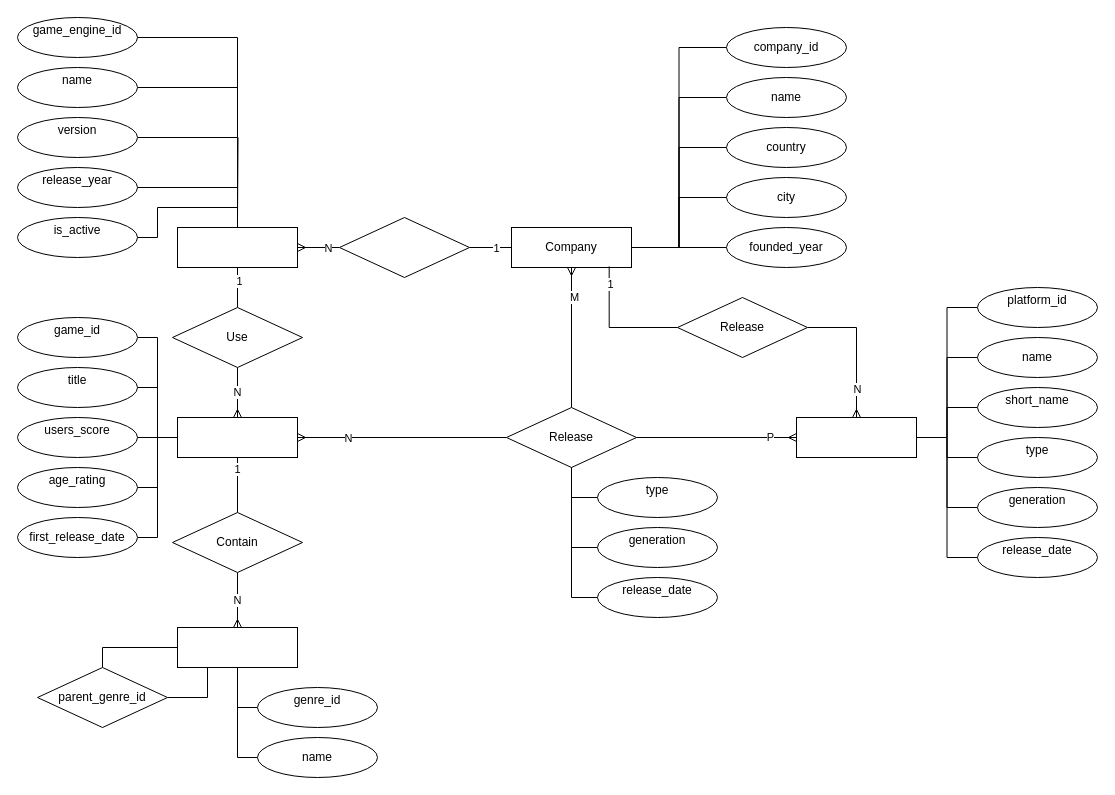
The diagram is 1115 pixels wide and 795 high, and some of its shapes have lost their labels. The centre of each missing label's shape, as x and y in pixels:
"Develop" goes at point (404, 247).
"Game" goes at point (237, 437).
"Game engine" goes at point (237, 247).
"Genre" goes at point (237, 647).
"Platform" goes at point (856, 437).
